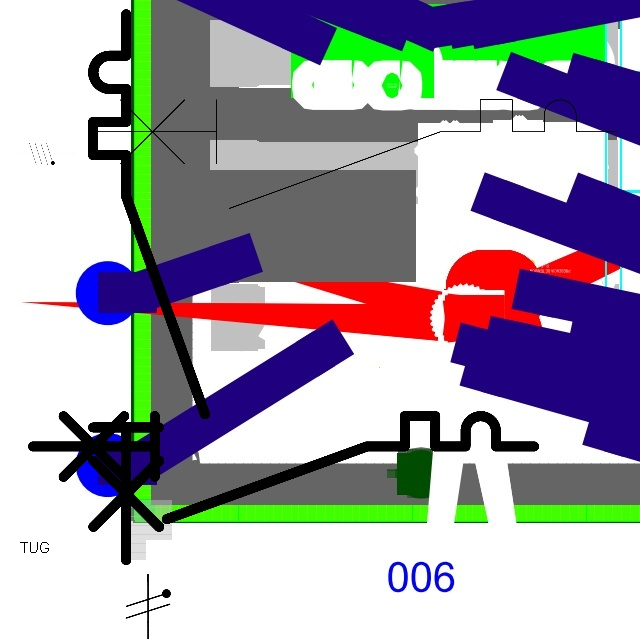interruptor_termomagnetico: (79, 0, 219, 574), (74, 86, 630, 222), (20, 403, 547, 532)
